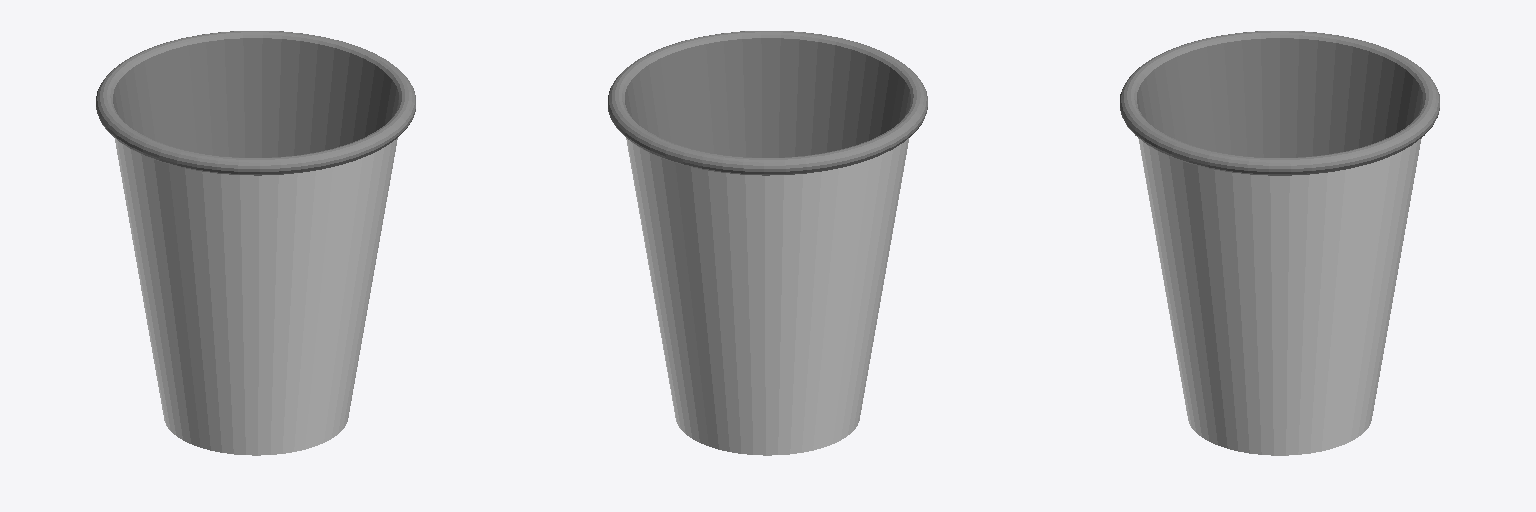
The model's file is cup.obj.
3 views of the same model, side by side, from view 1: azimuth 30°, elevation 25°; view 2: azimuth 150°, elevation 25°; view 3: azimuth 270°, elevation 25° (orthographic).
Parts seen in each view (by area): view 1: outsideShape, insideShape; view 2: outsideShape, insideShape; view 3: outsideShape, insideShape.
Part boxes in pixels (left/top/right/bottom): outsideShape: left=115, top=138, right=397, bottom=455; insideShape: left=96, top=31, right=415, bottom=175; outsideShape: left=626, top=138, right=908, bottom=455; insideShape: left=608, top=31, right=927, bottom=175; outsideShape: left=1138, top=138, right=1421, bottom=455; insideShape: left=1120, top=31, right=1439, bottom=175.
Bounding box in the file's own units: 0.8691 × 0.9606 × 0.8695.